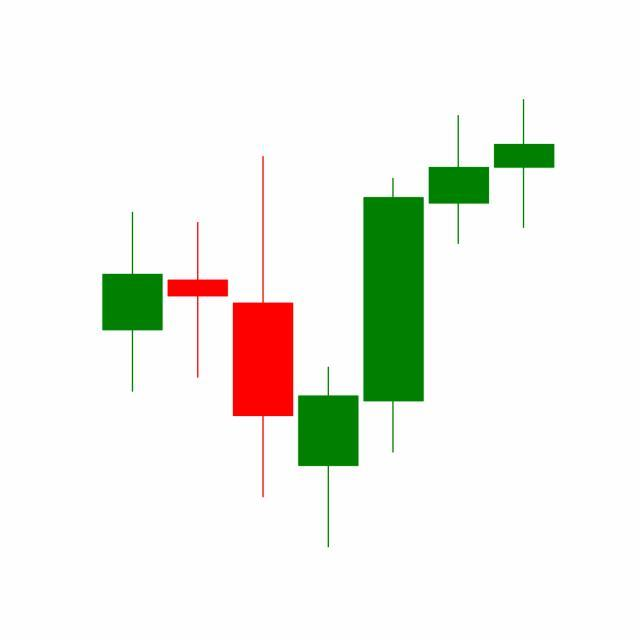Advance Block: (360, 99, 556, 458)
